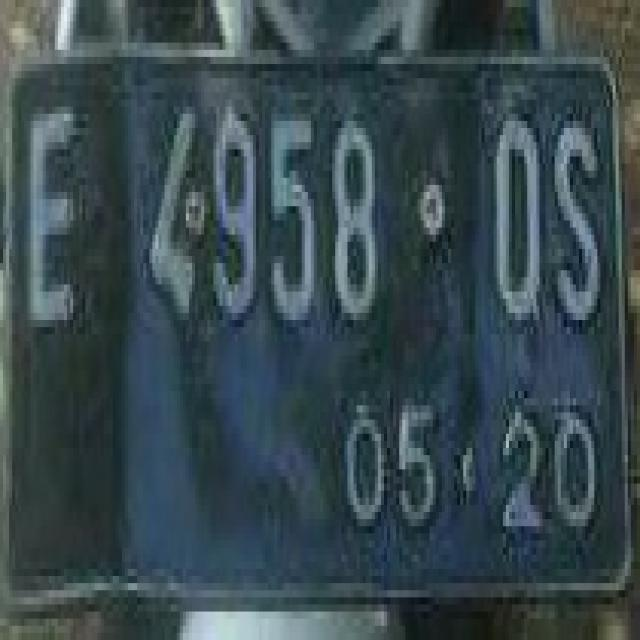plate: (0, 36, 637, 590)
